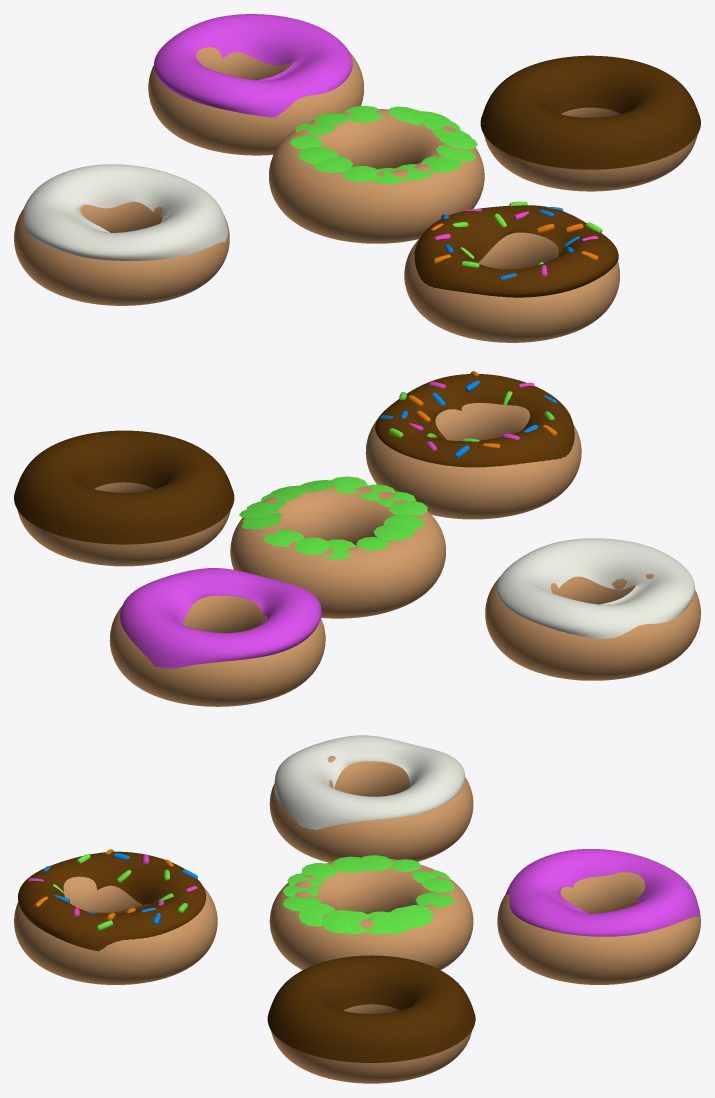
Rendered from Donuts.fbx.
The picture shows the model from 3 angles, top to bottom: view 1: azimuth 30°, elevation 25°; view 2: azimuth 150°, elevation 25°; view 3: azimuth 270°, elevation 25°; orthographic projection. The views are drawn at different scales.
Parts seen in each view (by area): view 1: Donut2, Donut1, Donut4, Donut5, Donut3; view 2: Donut2, Donut1, Donut3, Donut4, Donut5; view 3: Donut3, Donut1, Donut4, Donut2, Donut5.
Part boxes in pixels (<box>): Donut2: <box>14,164,229,305</box>; Donut1: <box>404,201,619,342</box>; Donut4: <box>480,55,700,191</box>; Donut5: <box>269,105,484,243</box>; Donut3: <box>148,14,363,155</box>; Donut2: <box>485,538,700,680</box>; Donut1: <box>365,371,581,519</box>; Donut3: <box>109,568,325,706</box>; Donut4: <box>14,430,234,566</box>; Donut5: <box>230,476,445,618</box>; Donut3: <box>497,849,700,984</box>; Donut1: <box>14,849,217,984</box>; Donut4: <box>267,955,475,1083</box>; Donut2: <box>269,735,473,862</box>; Donut5: <box>269,855,473,970</box>.
Bounding box in the file's own units: 4843 × 535 × 4640.
